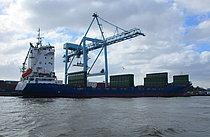Ship: (11, 25, 196, 102)
